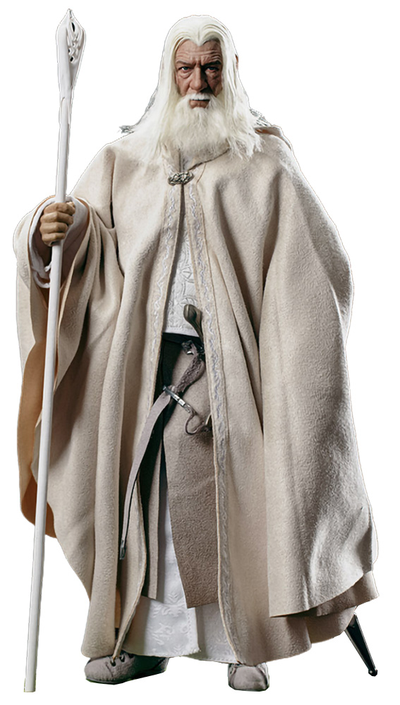gandalf gray: (12, 14, 374, 684)
